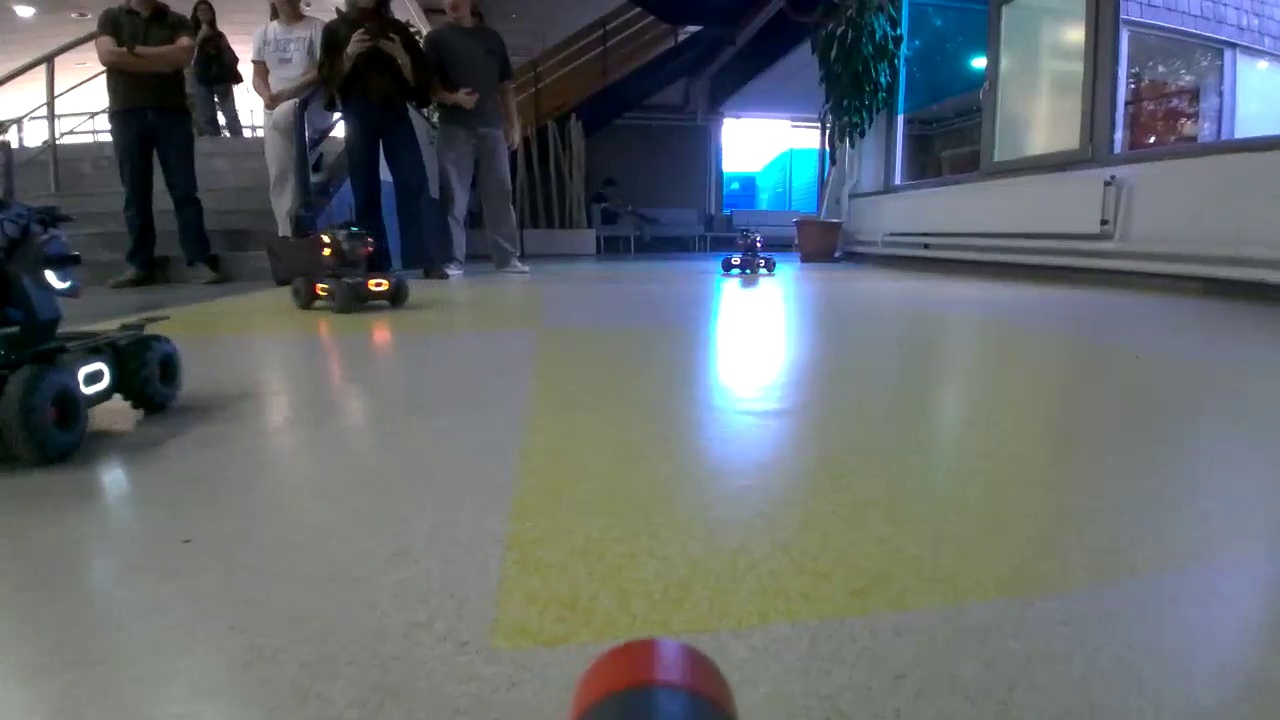robot: (1, 196, 189, 475), (292, 223, 410, 315), (721, 228, 780, 277)
